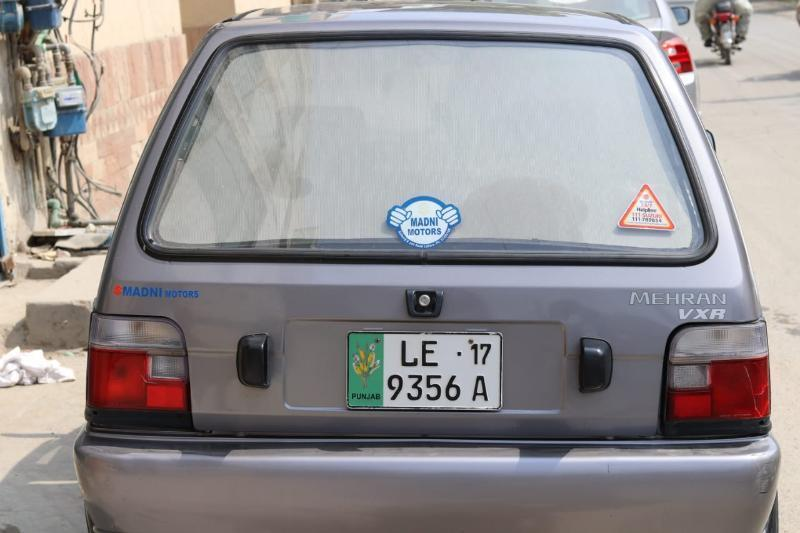plate: (342, 328, 506, 413)
